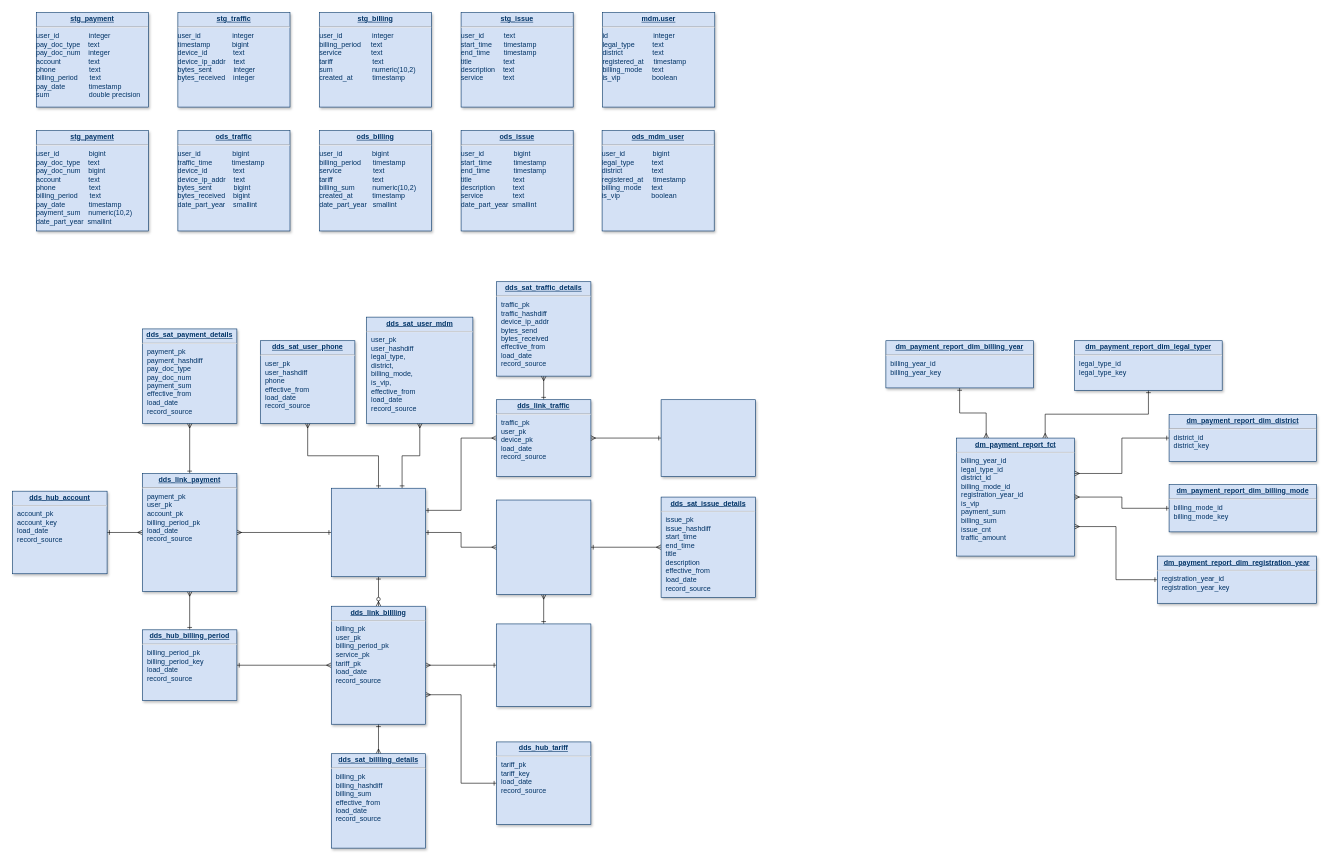
Some shapes in this 1330 by 863 pixel diagram are drawn without their labels. The shapes that lost their labels are listed below. From the top down, each one's centre as x and y in pixels, then its label:
At point (708, 439): "dds_hub_device device_pk device_key load_date record_source".
At point (378, 533): "dds_hub_user user_pk user_key load_date record_source".
At point (544, 548): "dds_link_issue issue_pk user_pk service_pk load_date record_source".
At point (544, 666): "dds_hub_service service_pk service_key load_date record_source".
